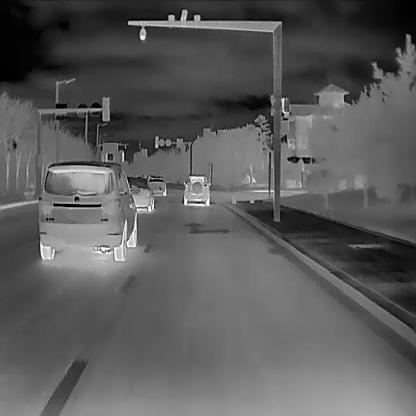car: (37, 159, 138, 262), (124, 175, 154, 211), (182, 174, 211, 205), (146, 175, 166, 196)
